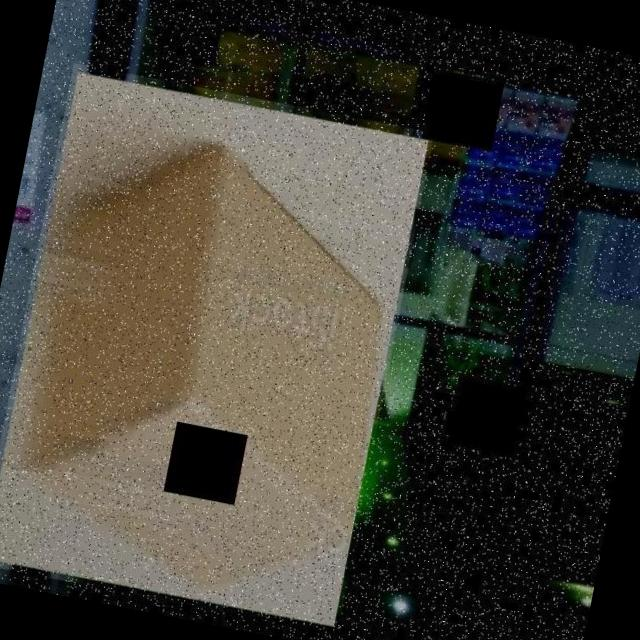box: (0, 63, 434, 634)
